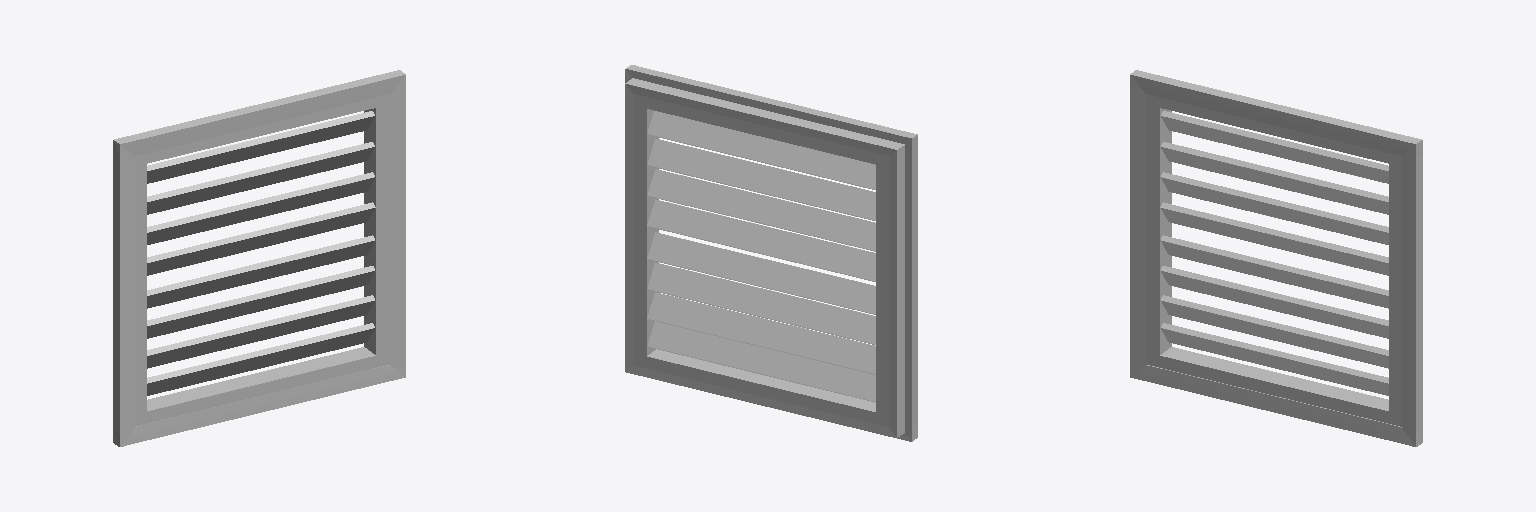
File: Vent.obj
3 views of the same model, side by side, from view 1: azimuth 30°, elevation 25°; view 2: azimuth 150°, elevation 25°; view 3: azimuth 330°, elevation 25° (orthographic).
Parts seen in each view (by area): view 1: pCube40; view 2: pCube40; view 3: pCube40.
Boxes of the visible parts, x1=… form: pCube40: x1=113, y1=70, x2=405, y2=446; pCube40: x1=625, y1=65, x2=917, y2=441; pCube40: x1=1130, y1=70, x2=1422, y2=446.
Size of the model in its own units: 169 by 171 by 13.89.